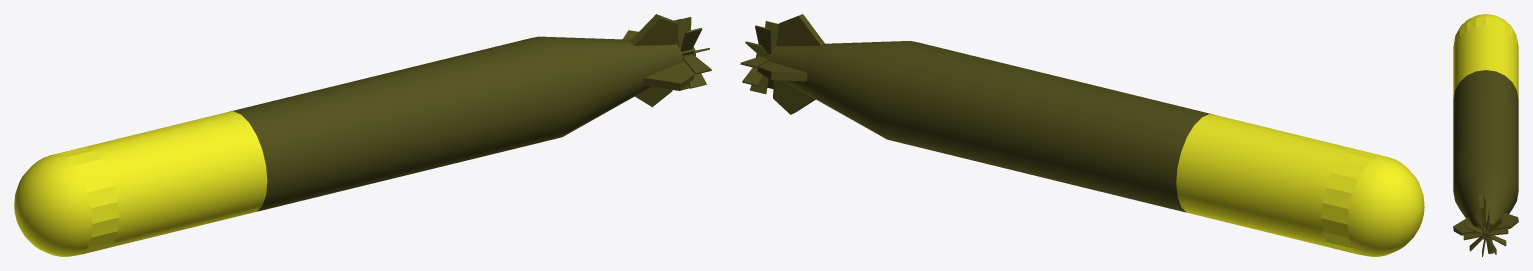
File: missileeee.fbx
The picture shows the model from 3 angles, left to right: view 1: azimuth 30°, elevation 25°; view 2: azimuth 150°, elevation 25°; view 3: azimuth 270°, elevation 25°; orthographic projection. The views are drawn at different scales.
Parts seen in each view (by area): view 1: pSphere2; view 2: pSphere2; view 3: pSphere2.
Part boxes in pixels (x1,y1,x2,y2): pSphere2: (14, 14, 711, 256); pSphere2: (740, 14, 1424, 256); pSphere2: (1453, 14, 1518, 256).
Size of the model in its own units: 14.83 by 2.03 by 2.03.
